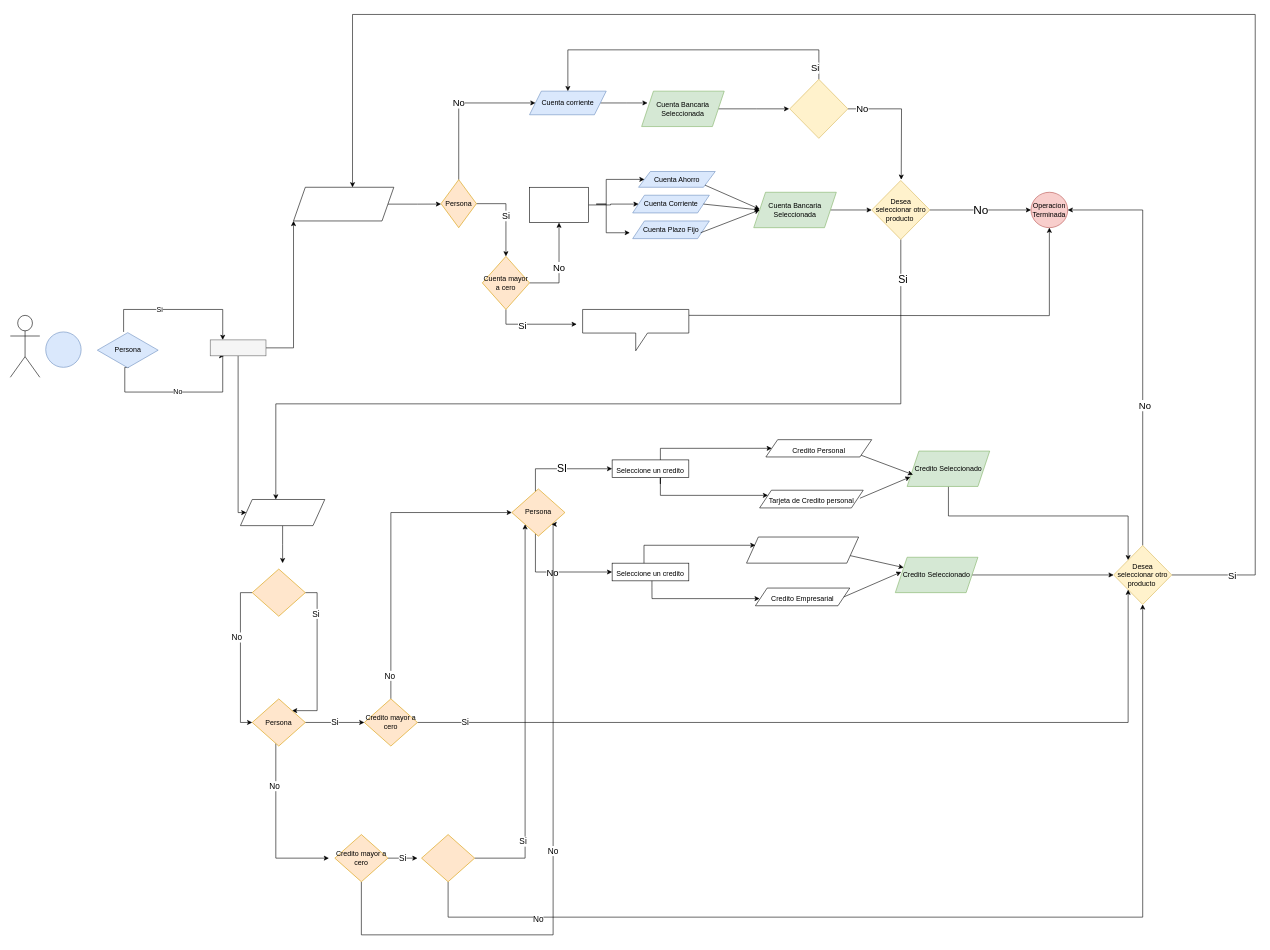
Image size: 1270x950. Some labels were removed from this diagram. Here are the shapes that lost their labels. From the top down, the centre of each, then its label:
the point at 818,108: Desea seleccionar otra cuenta
the point at 343,204: Cuenta Bancaria
the point at 559,205: Seleccione una cuenta
the point at 25,346: Cliente
the point at 63,349: Tipo de Cliente
the point at 238,347: Producto a elegir
the point at 635,330: Ya tiene una cuenta creada
the point at 282,512: Credito
the point at 802,549: Tarjeta de Credito empresarial
the point at 278,592: Tiene cuenta bancaria
the point at 448,858: Desea seleccionar otro credito
